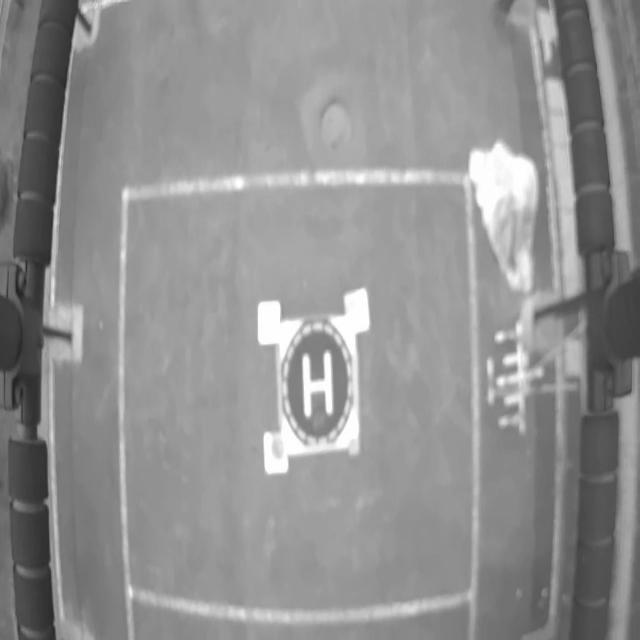Helipad: (303, 350, 332, 420)
